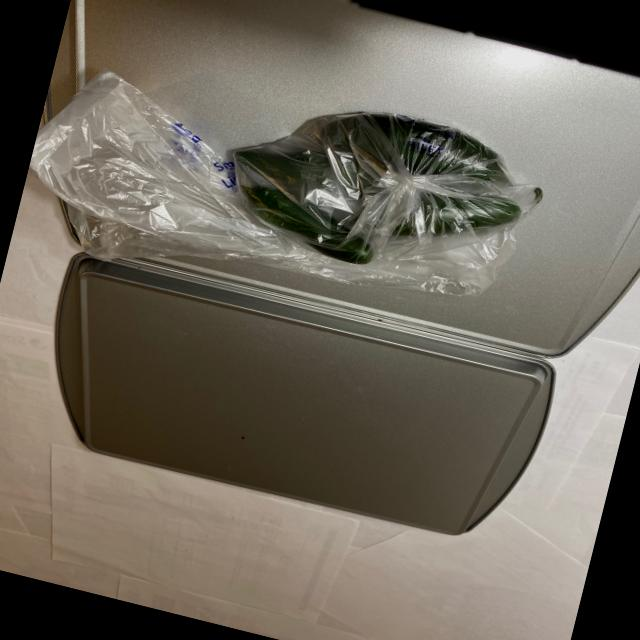chilli: (197, 78, 564, 314)
